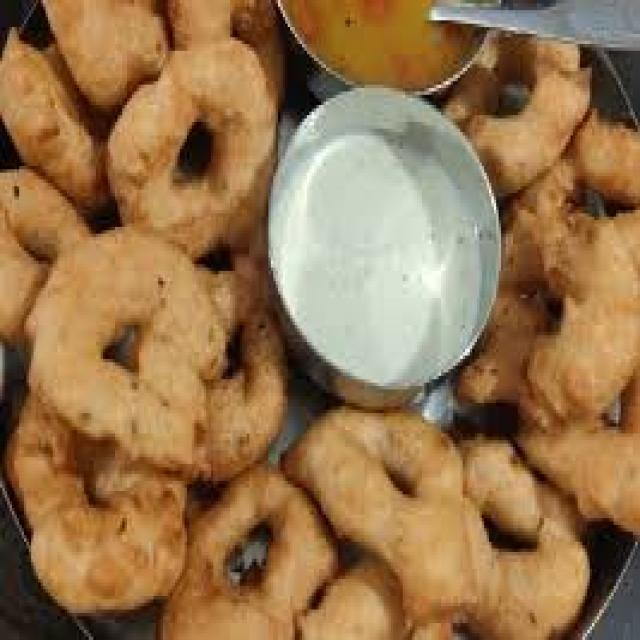MEDU VADA: (29, 233, 221, 474), (3, 398, 187, 616), (283, 413, 474, 622), (108, 37, 279, 260), (454, 215, 637, 423), (158, 470, 339, 634), (461, 439, 592, 637), (507, 116, 638, 304), (443, 37, 593, 201), (516, 373, 638, 535), (196, 268, 287, 479), (0, 54, 106, 214), (2, 169, 91, 351), (43, 0, 167, 112), (169, 4, 285, 113), (304, 558, 406, 636)
